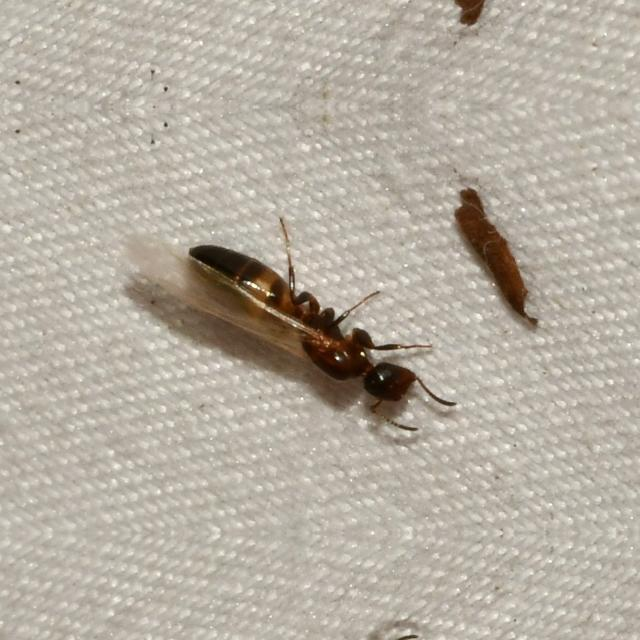Colobopsis: (168, 228, 466, 430)
